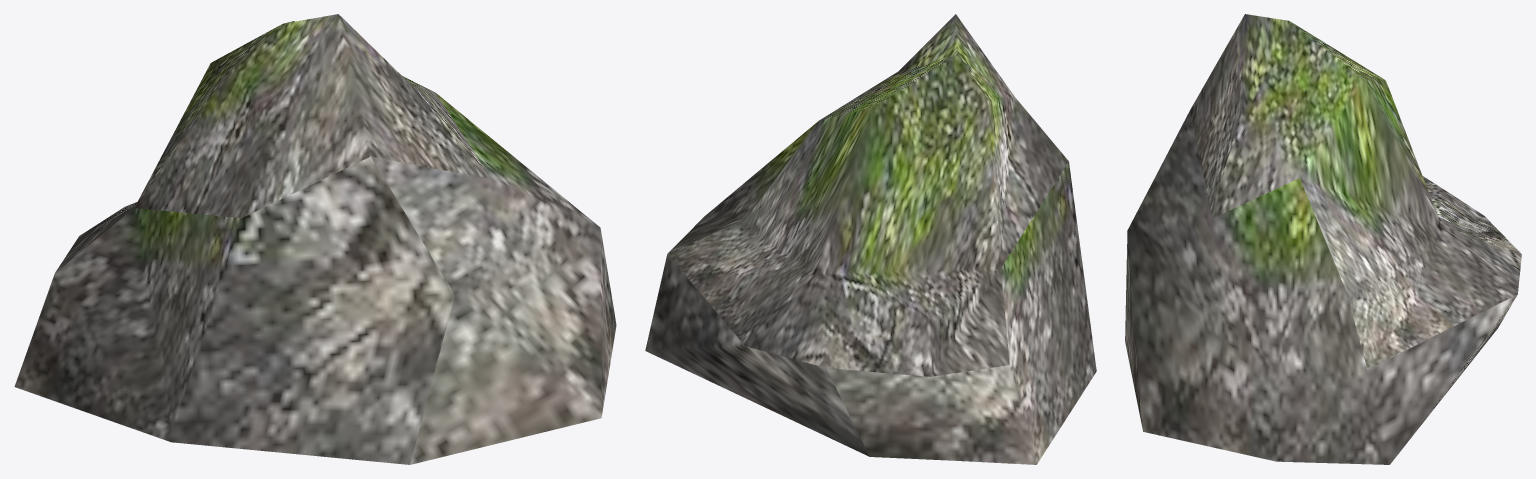
The model's file is rock-moss-2.glb.
The picture shows the model from 3 angles, left to right: view 1: azimuth 30°, elevation 25°; view 2: azimuth 150°, elevation 25°; view 3: azimuth 270°, elevation 25°; orthographic projection. The views are drawn at different scales.
Visible parts, largest first — view 1: rock-moss-2; view 2: rock-moss-2; view 3: rock-moss-2.
Boxes of the visible parts, box(x1,y1,x2,y2) form: rock-moss-2: box(14, 14, 616, 464); rock-moss-2: box(645, 14, 1096, 464); rock-moss-2: box(1125, 14, 1521, 464).
Bounding box in the file's own units: 4.04 × 3.1 × 3.32.
Materials: 1 (1 with a texture image).
